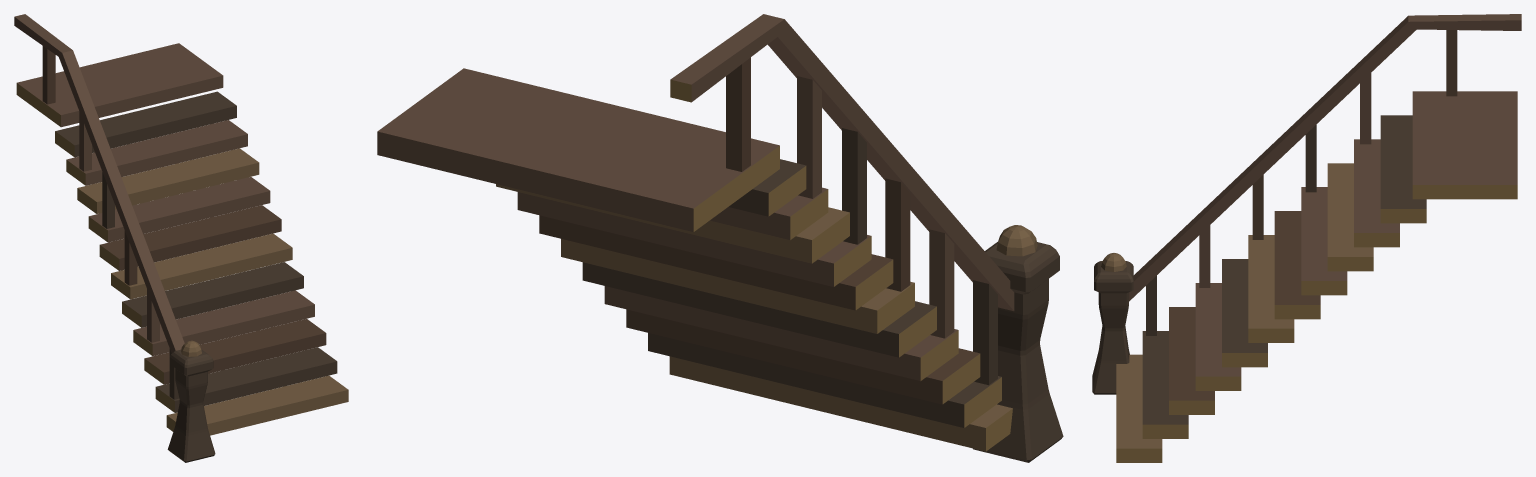
File: Stair_1A_2m.fbx
The picture shows the model from 3 angles, left to right: view 1: azimuth 30°, elevation 25°; view 2: azimuth 150°, elevation 25°; view 3: azimuth 270°, elevation 25°; orthographic projection. The views are drawn at different scales.
Visible parts, largest first — view 1: polySurface2740; view 2: polySurface2740; view 3: polySurface2740.
Boxes of the visible parts, box(x1,y1,x2,y2) form: polySurface2740: box(14, 14, 348, 462); polySurface2740: box(377, 14, 1063, 462); polySurface2740: box(1092, 14, 1521, 462).
Bounding box in the file's own units: 180 × 308 × 325.
